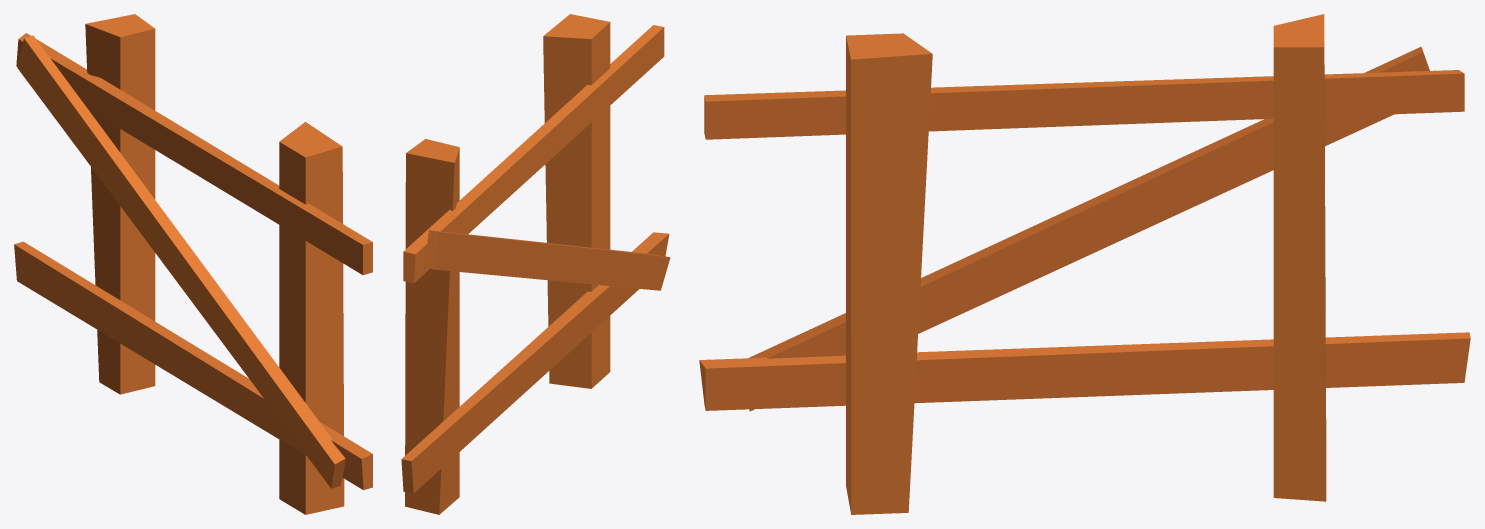
File: fense.fbx
3 views of the same model, side by side, from view 1: azimuth 30°, elevation 25°; view 2: azimuth 150°, elevation 25°; view 3: azimuth 270°, elevation 25° (orthographic). The views are drawn at different scales.
Visible parts, largest first — view 1: Fense-ver1-light; view 2: Fense-ver1-light; view 3: Fense-ver1-light.
Boxes of the visible parts, <box> form: Fense-ver1-light: <box>14,14,372,514</box>; Fense-ver1-light: <box>401,14,670,514</box>; Fense-ver1-light: <box>699,14,1470,514</box>.
Bounding box in the file's own units: 161 × 105 × 28.81.
